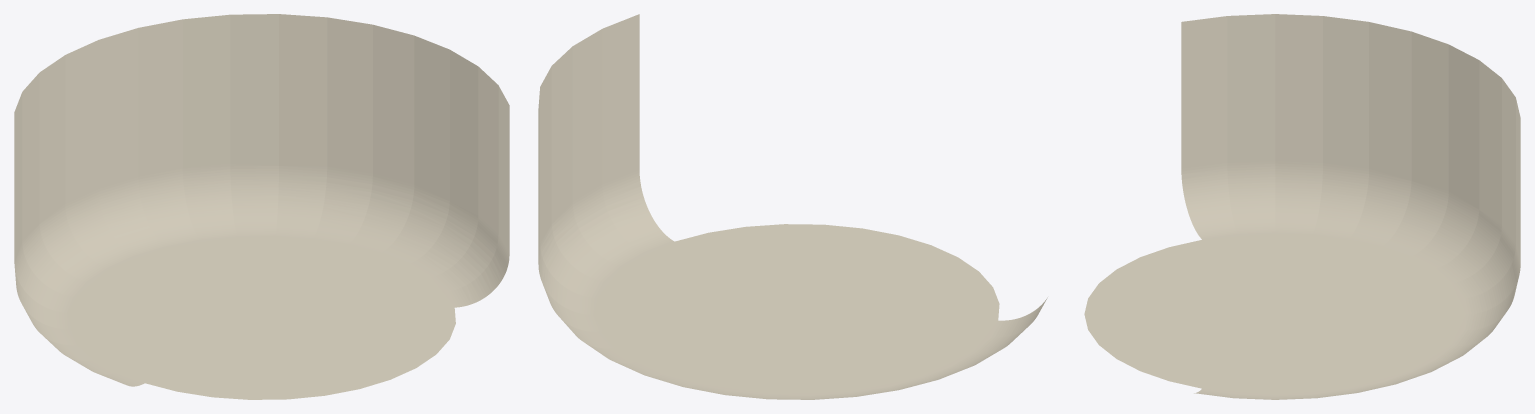
The model's file is limbo.glb.
3 views of the same model, side by side, from view 1: azimuth 30°, elevation 25°; view 2: azimuth 150°, elevation 25°; view 3: azimuth 270°, elevation 25° (orthographic). The views are drawn at different scales.
Visible parts, largest first — view 1: iso_limbo-001; view 2: iso_limbo-001; view 3: iso_limbo-001.
Boxes of the visible parts, x1,y1,x2,y2 form: iso_limbo-001: (14,14,509,399); iso_limbo-001: (538,14,1047,399); iso_limbo-001: (1084,14,1520,399).
Bounding box in the file's own units: 180 × 79.56 × 160.
